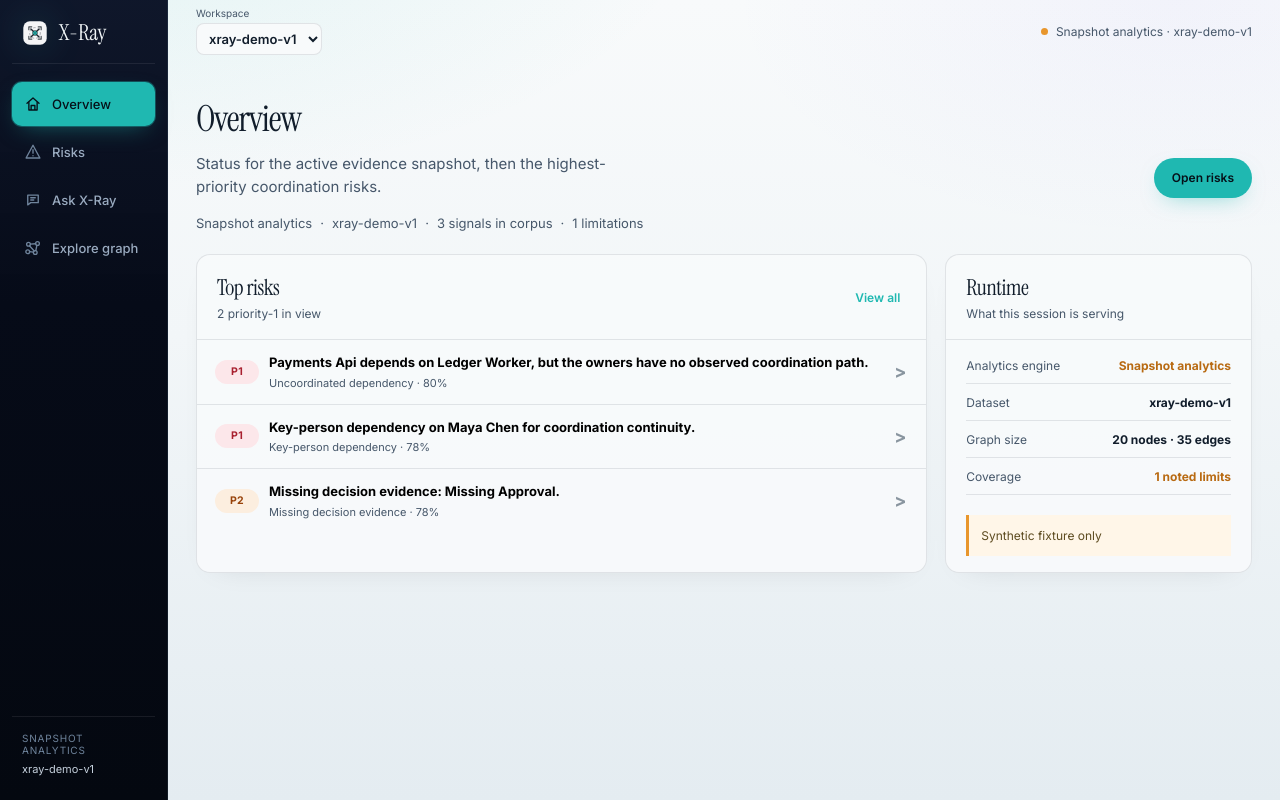
Scenario: sidebar navigation exposes the four demo workspaces
Click the button "Explore graph".
click(84, 248)  # box 12,226 -> 155,270
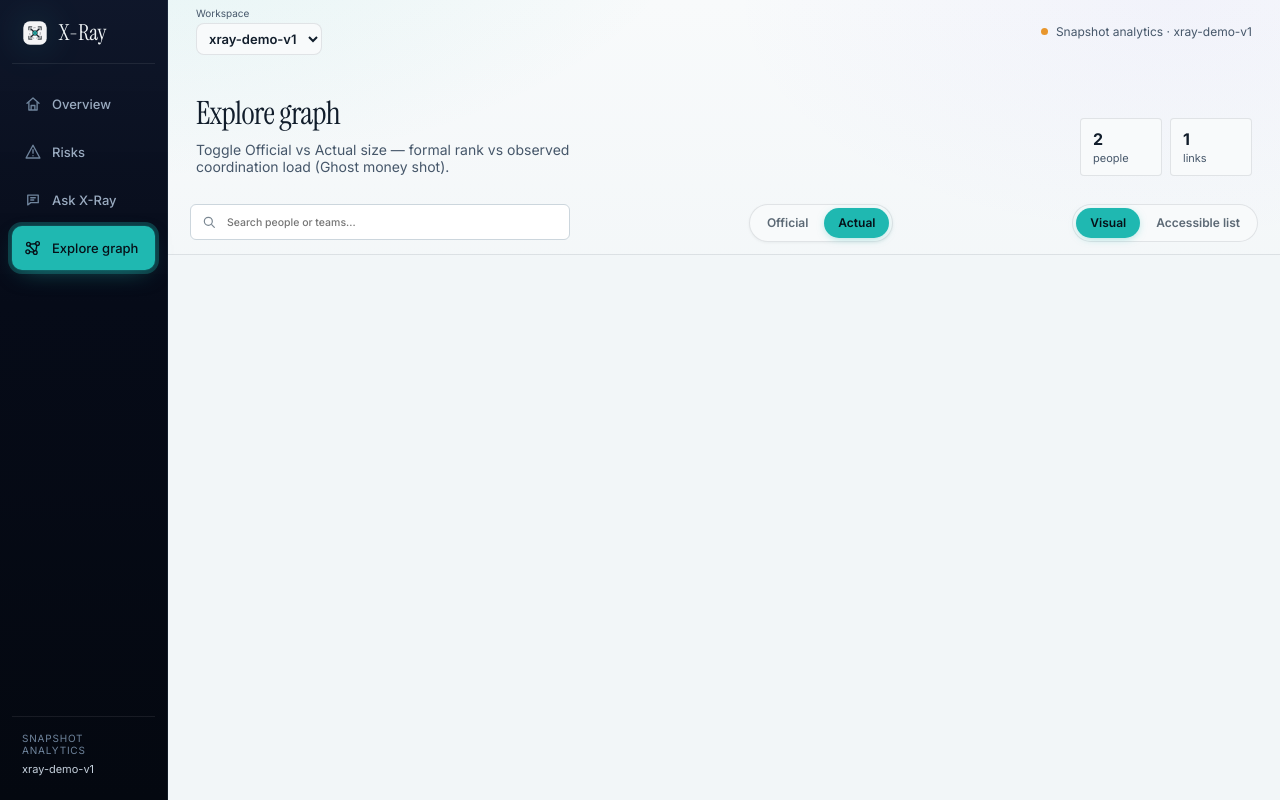
Check: the heading "Explore graph" is shown, box 196,92 -> 340,134
Click the button "Accessible list".
click(1198, 223)  # box 1142,208 -> 1254,238
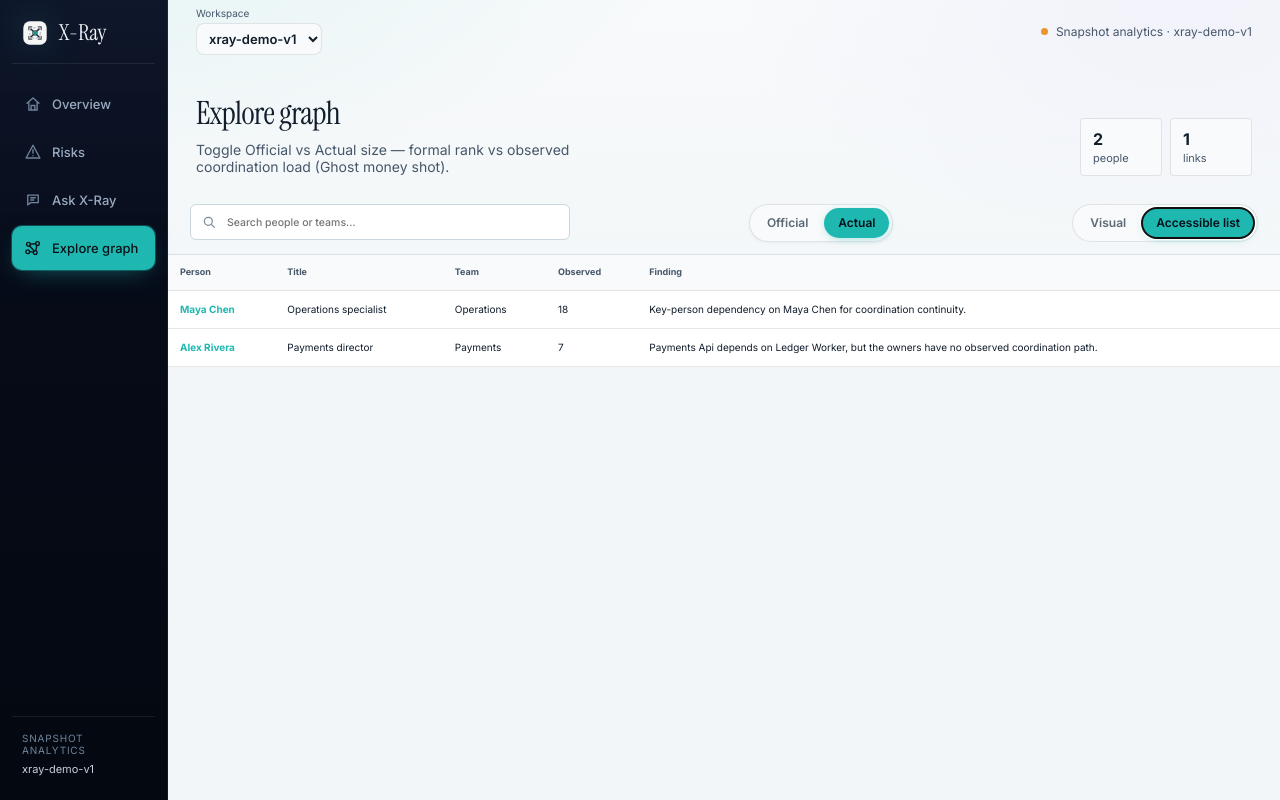
Check: the button "Maya Chen" is shown, box 180,303 -> 235,316
